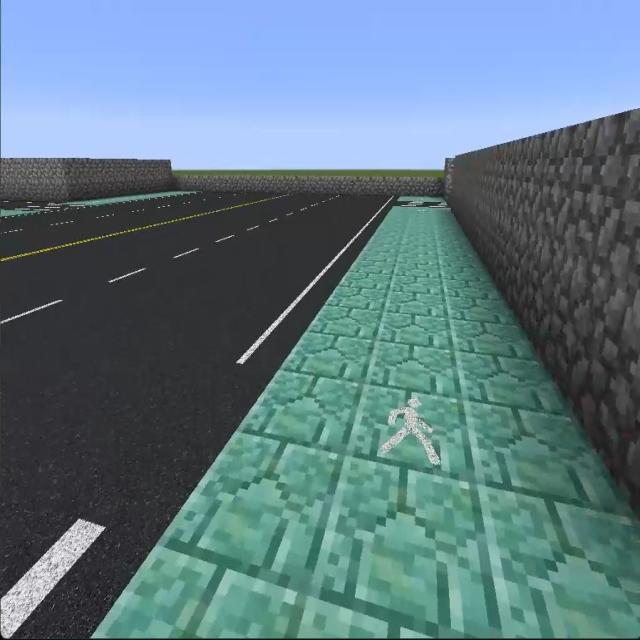crosswalk: (6, 441, 142, 633)
road: (5, 193, 398, 525)
sidewalk: (100, 208, 637, 635), (65, 190, 195, 205), (399, 195, 441, 201), (0, 209, 17, 217)
